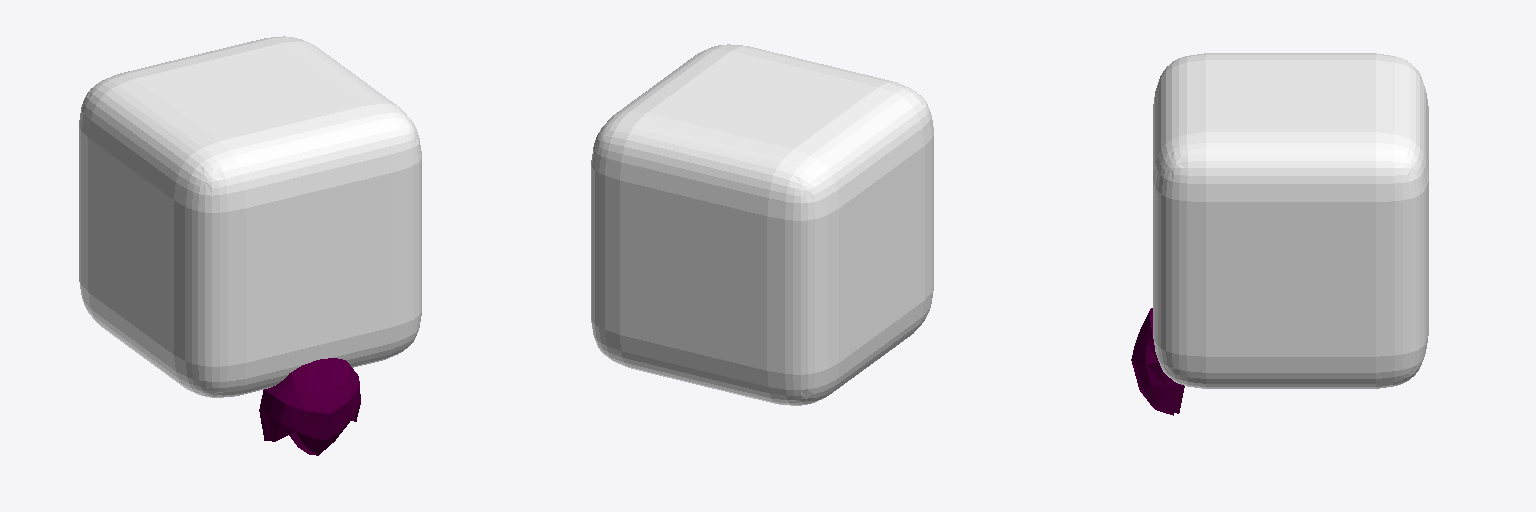
Rendered from AvatarHead.obj.
3 views of the same model, side by side, from view 1: azimuth 30°, elevation 25°; view 2: azimuth 150°, elevation 25°; view 3: azimuth 270°, elevation 25° (orthographic).
Visible parts, largest first — view 1: Head.001_Head, FacialHair; view 2: Head.001_Head; view 3: Head.001_Head, FacialHair.
Boxes of the visible parts, x1,y1,x2,y2 form: Head.001_Head: [79, 36, 421, 397]; FacialHair: [259, 358, 360, 455]; Head.001_Head: [591, 44, 933, 405]; Head.001_Head: [1153, 53, 1428, 388]; FacialHair: [1131, 308, 1184, 415].
Size of the model in its own units: 0.3069 by 0.3923 by 0.331.